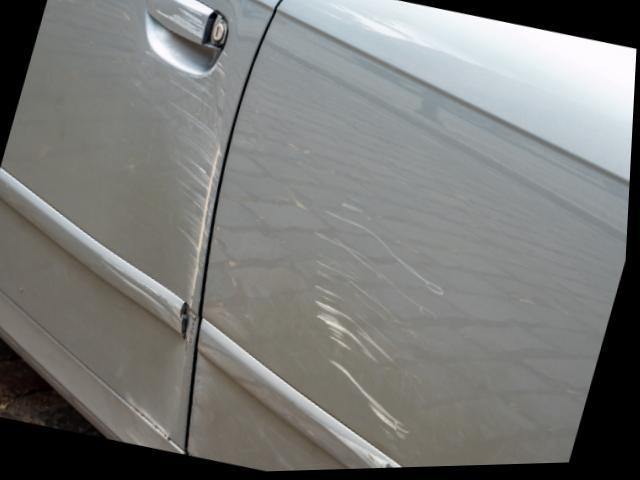scratch: (314, 200, 447, 449), (127, 47, 232, 310), (104, 259, 186, 330), (323, 425, 402, 471), (160, 0, 205, 39)
